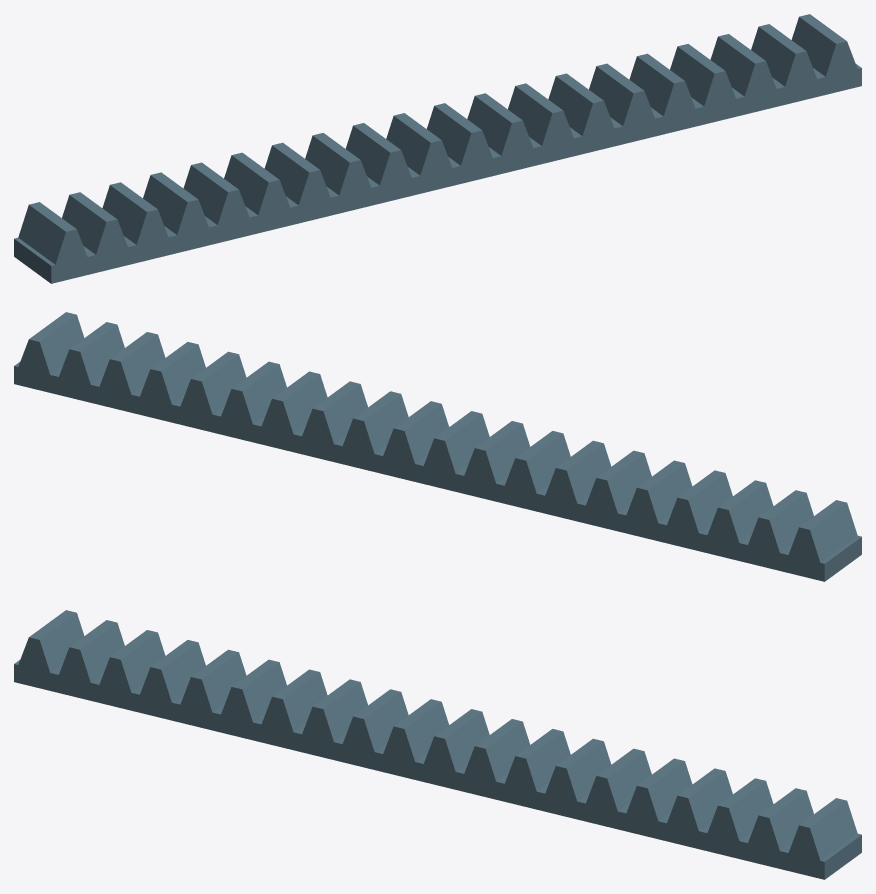
3 views of the same model, one above another, from view 1: azimuth 30°, elevation 25°; view 2: azimuth 150°, elevation 25°; view 3: azimuth 330°, elevation 25° (orthographic).
Visible parts, largest first — view 1: Rack Gear; view 2: Rack Gear; view 3: Rack Gear.
Part boxes in pixels (x1,y1,x2,y2): Rack Gear: (14, 14, 861, 283); Rack Gear: (14, 312, 861, 581); Rack Gear: (14, 610, 861, 879).
Bounding box in the file's own units: 18.85 × 1.08 × 1.5.
